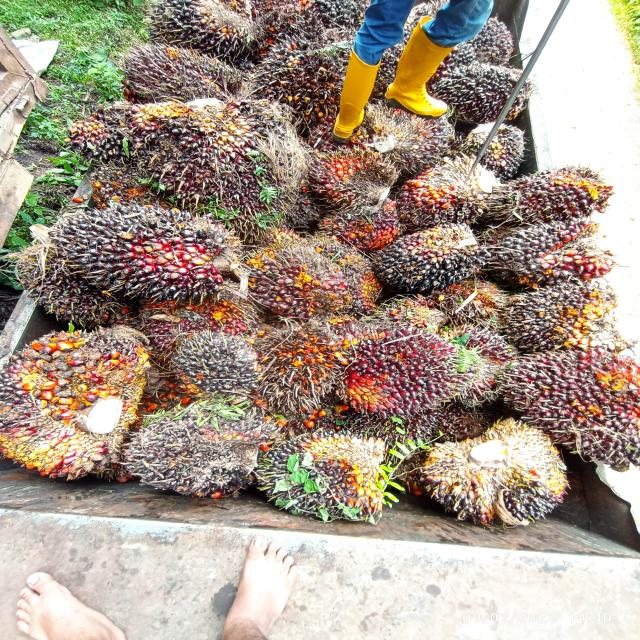fraksi 00: (141, 97, 314, 210), (56, 205, 247, 301), (117, 390, 270, 505), (240, 418, 398, 524), (107, 42, 239, 109), (495, 152, 617, 224), (374, 219, 491, 293), (508, 283, 631, 352), (484, 225, 616, 288), (44, 96, 148, 166), (177, 333, 256, 396)
fraksi 1: (0, 301, 154, 487), (500, 337, 640, 456), (338, 314, 466, 420), (243, 224, 377, 322)
fraksi 3: (325, 199, 404, 253)
fraksi 4: (254, 318, 341, 414)
